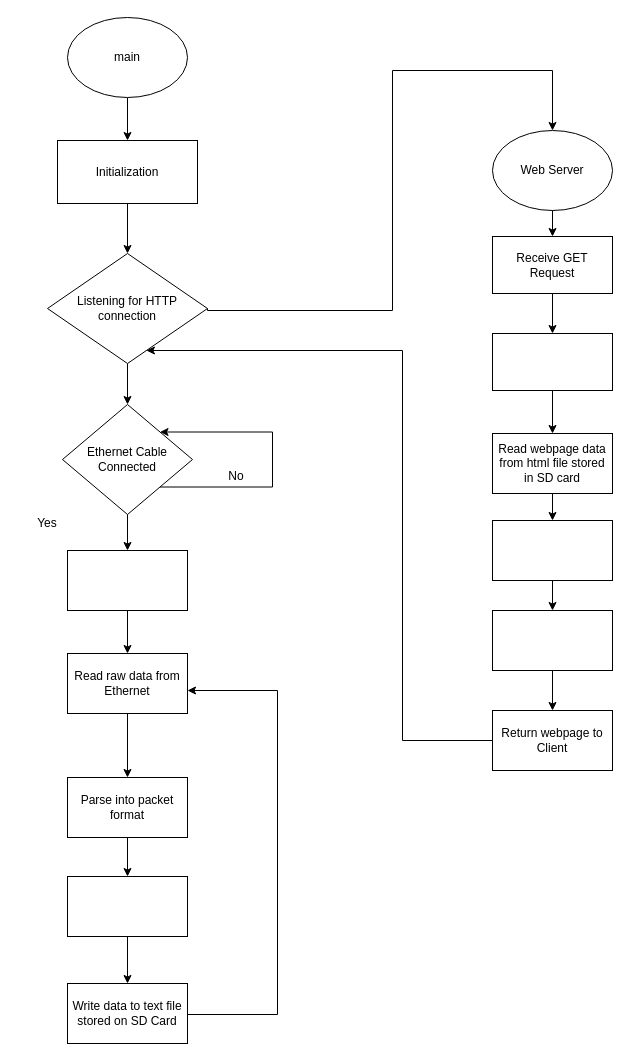
This 630x1061 diagram has some shape labels left out. Here are the shapes that lost their labels. From the top down, the centre of each, then its label:
At (552,361): "Read packet data from text file stored in SD card".
At (552,550): "Read attack alert data from text file store in SD card".
At (127,580): "Enable Monitoring Mode".
At (552,640): "Integrate packet data and attack alert data with webpage data".
At (127,906): "Analyse packet for TCP SYN flood".
